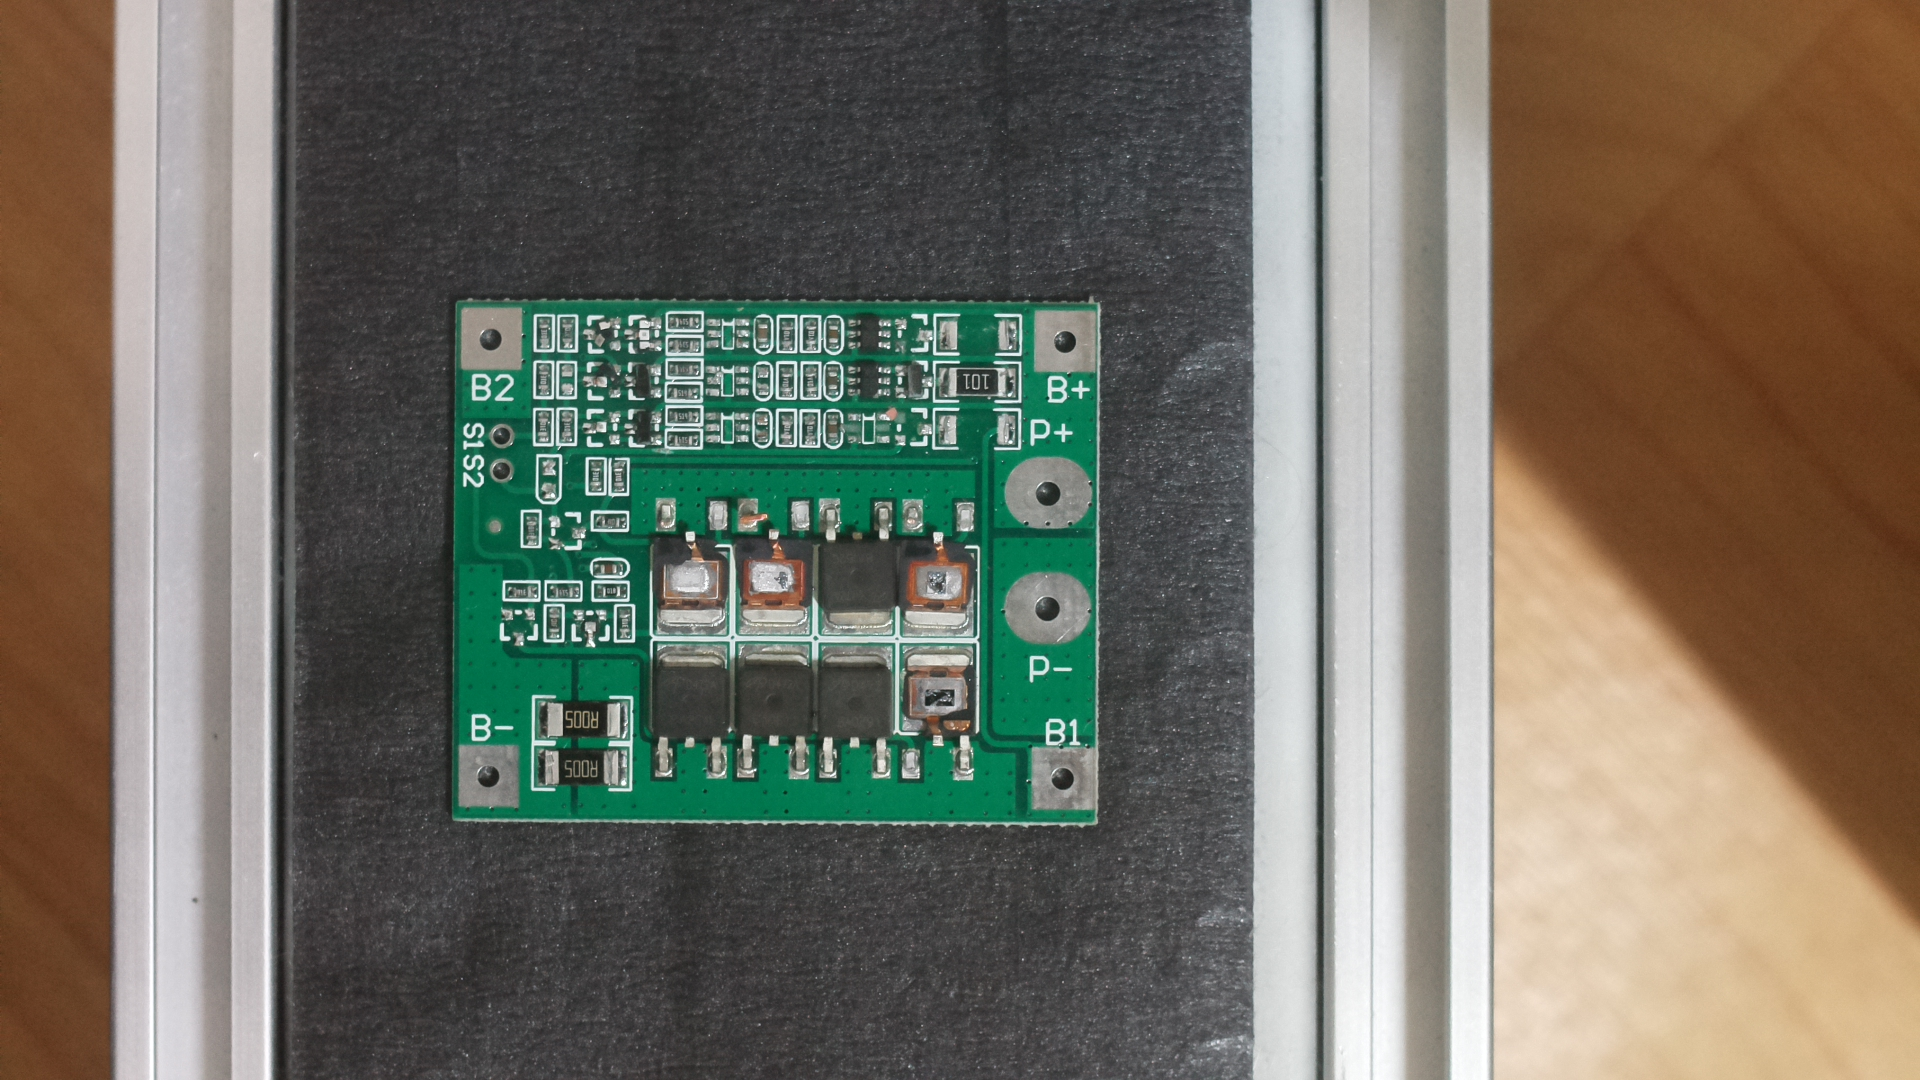C_Missing_part: (433, 284, 1125, 852)
